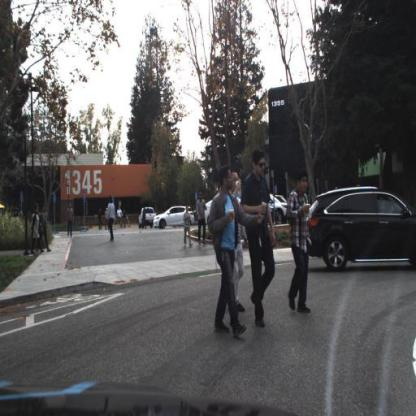biker: (117, 207, 125, 231)
car: (302, 183, 416, 277), (152, 206, 196, 231), (155, 204, 194, 229), (38, 206, 52, 257), (137, 207, 155, 226)
pedestrian: (205, 167, 264, 339), (242, 151, 282, 327), (283, 172, 315, 314), (226, 169, 249, 309), (230, 170, 249, 316), (27, 204, 44, 260), (196, 189, 209, 249), (106, 195, 119, 245), (182, 206, 195, 250), (40, 201, 47, 257), (65, 203, 75, 238), (66, 203, 75, 236)
